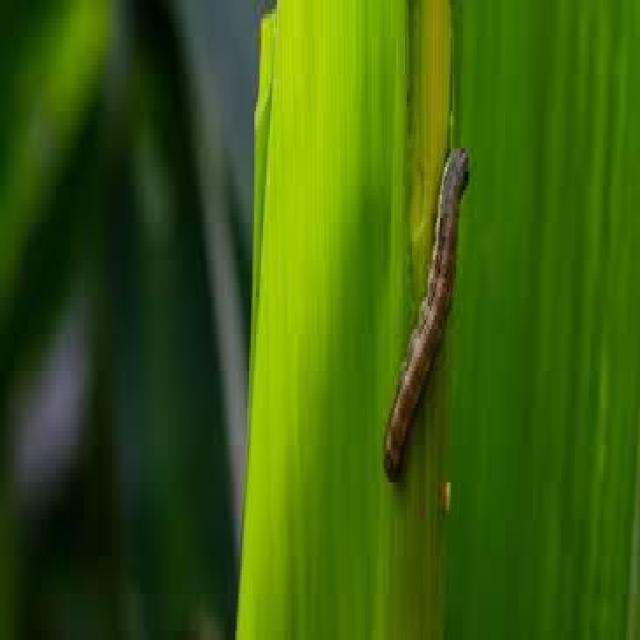Army Worm: (380, 140, 473, 492)
